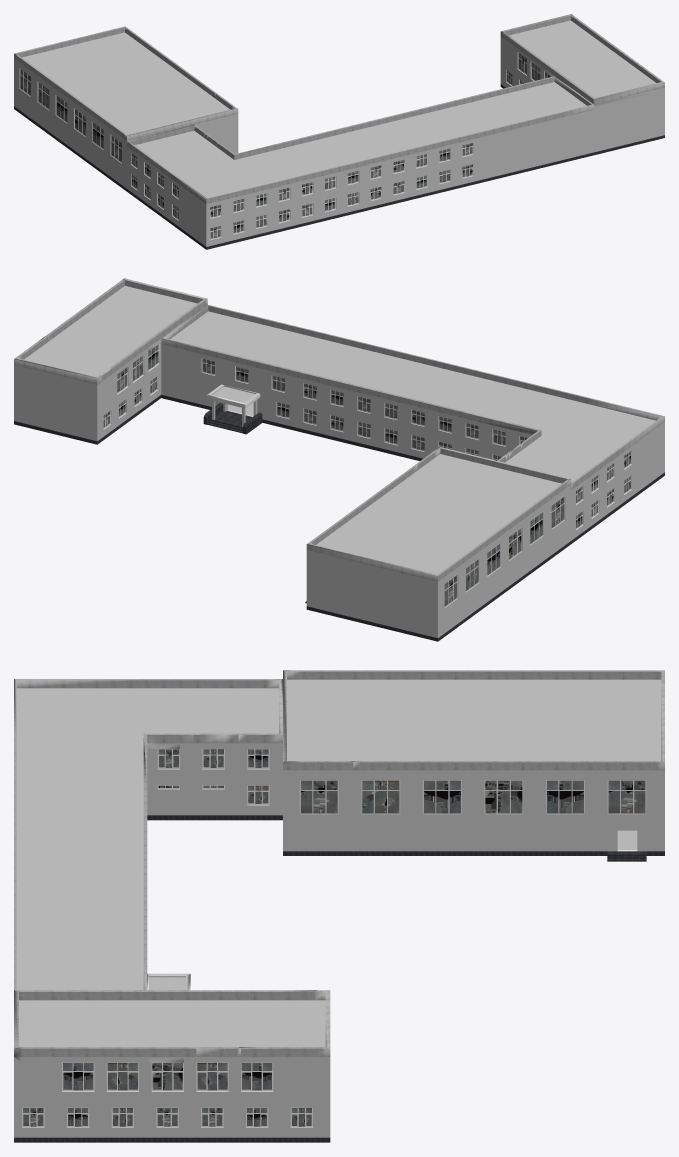
Rendered from SchoolBuilding.FBX.
3 views of the same model, one above another, from view 1: azimuth 30°, elevation 25°; view 2: azimuth 150°, elevation 25°; view 3: azimuth 270°, elevation 25° (orthographic). The views are drawn at different scales.
Parts seen in each view (by area): view 1: Floor2, Box001, Zal, Corridor, BuildingBottom, Kitchen, Glass4, Glass009, GlassLeft, Windows4, Windows009, WindowLeft; view 2: Floor2, Box001, Zal, Corridor, Kitchen, BuildingBottom, Entry, Glass010, GlassLeft, Glass3, Windows010, WindowLeft (+2 smaller); view 3: Box001, Floor2, Zal, Kitchen, GlassRight, BuildingBottom, Corridor, Glass6, Glass5, WindowWoodRight, Windows6, Windows5 (+3 smaller).
Part boxes in pixels (x1,y1,x2,y2): Floor2: [127, 76, 594, 225]; Box001: [14, 26, 238, 188]; Zal: [500, 14, 664, 130]; Corridor: [127, 131, 594, 246]; BuildingBottom: [14, 84, 664, 249]; Kitchen: [500, 63, 664, 152]; Glass4: [210, 164, 472, 238]; Glass009: [210, 143, 472, 217]; GlassLeft: [20, 69, 121, 162]; Windows4: [210, 164, 473, 239]; Windows009: [210, 143, 473, 218]; WindowLeft: [19, 68, 121, 163]; Floor2: [161, 304, 664, 515]; Box001: [306, 447, 571, 637]; Zal: [14, 278, 207, 415]; Corridor: [161, 369, 664, 540]; Kitchen: [14, 370, 161, 441]; BuildingBottom: [14, 394, 664, 641]; Entry: [203, 384, 262, 434]; Glass010: [202, 359, 527, 444]; GlassLeft: [444, 497, 564, 606]; Glass3: [277, 402, 501, 460]; Windows010: [202, 358, 527, 446]; WindowLeft: [444, 496, 564, 607]; Box001: [283, 670, 664, 851]; Floor2: [14, 679, 282, 990]; Zal: [14, 990, 330, 1101]; Kitchen: [14, 1101, 330, 1137]; GlassRight: [301, 780, 645, 813]; BuildingBottom: [14, 815, 664, 1142]; Corridor: [147, 779, 282, 815]; Glass6: [63, 1063, 272, 1090]; Glass5: [23, 1108, 311, 1126]; WindowWoodRight: [299, 780, 646, 814]; Windows6: [62, 1062, 273, 1091]; Windows5: [22, 1107, 312, 1127].
Bounding box in the file's own units: 80071 × 9261 × 58194.
